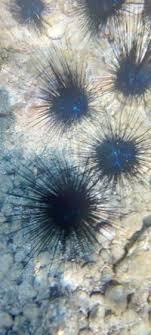urchin: (6, 148, 110, 280), (15, 43, 101, 151), (70, 111, 151, 198), (86, 35, 151, 114), (0, 0, 65, 48), (68, 0, 137, 39)
